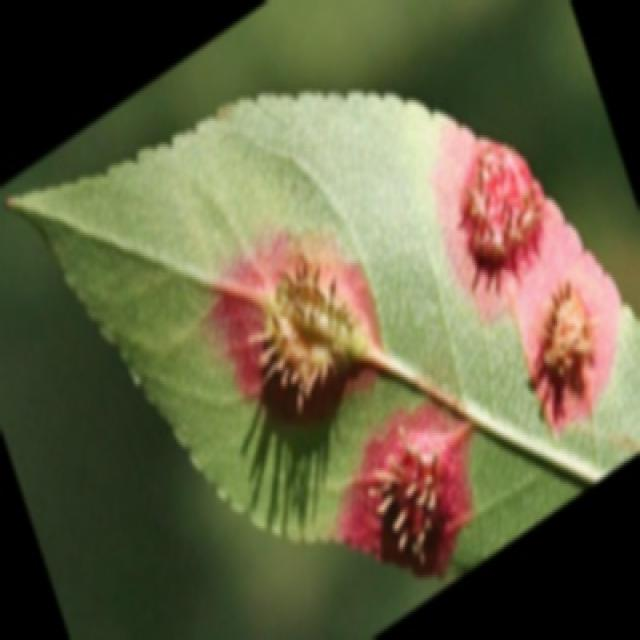Gymnosporangium_Rusts: (5, 84, 638, 579)
